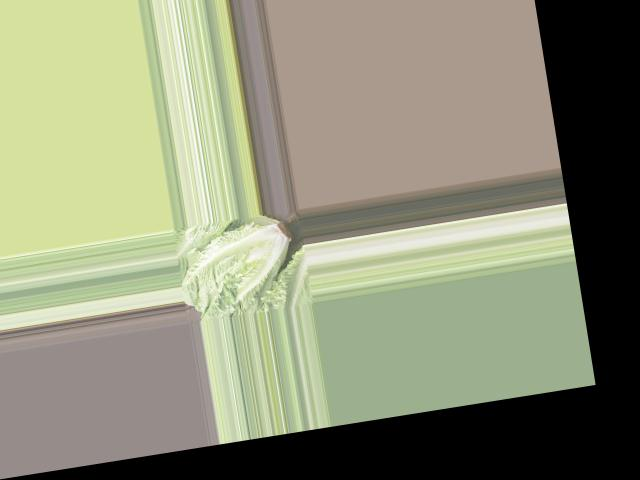lettuce: (173, 209, 306, 317)
